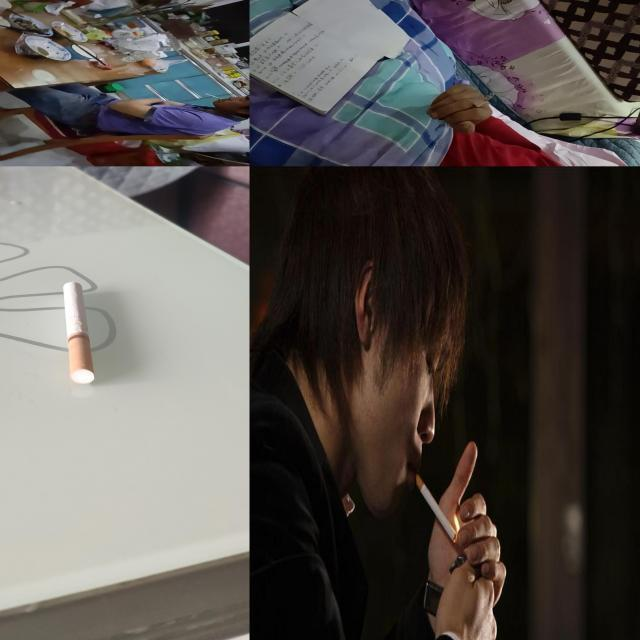smoke: (62, 282, 96, 384), (413, 473, 458, 544), (468, 92, 496, 112), (205, 94, 223, 100)
